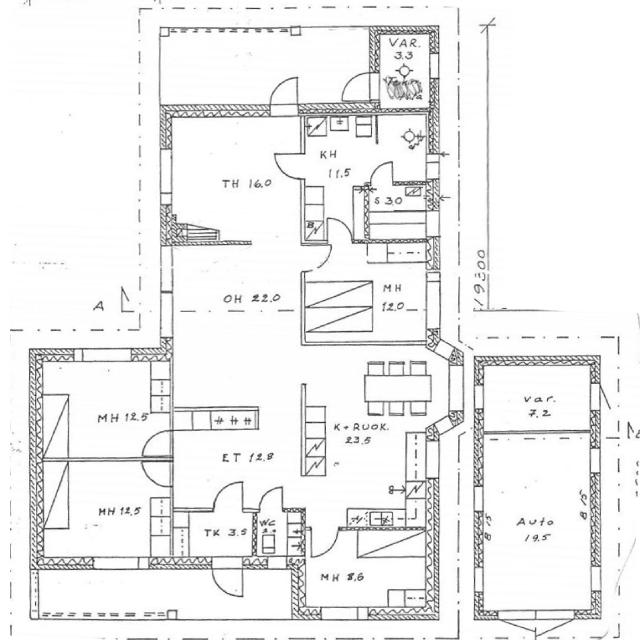door: (251, 510, 310, 566), (206, 557, 250, 602), (265, 72, 304, 117), (137, 448, 175, 492), (339, 68, 376, 107), (136, 426, 175, 463), (209, 477, 248, 513), (268, 149, 310, 182), (492, 611, 539, 640), (307, 525, 340, 560), (299, 242, 335, 274), (324, 214, 356, 246), (367, 157, 398, 186), (257, 483, 287, 512), (587, 382, 607, 414)
window: (155, 634, 182, 640)
zone: (474, 429, 598, 616), (306, 350, 432, 520), (161, 115, 304, 246), (35, 458, 175, 569), (32, 354, 172, 462), (295, 527, 432, 620), (174, 412, 306, 508), (296, 260, 422, 344), (303, 114, 432, 182), (356, 183, 434, 258), (374, 30, 437, 114), (172, 507, 257, 562), (251, 510, 304, 566)
